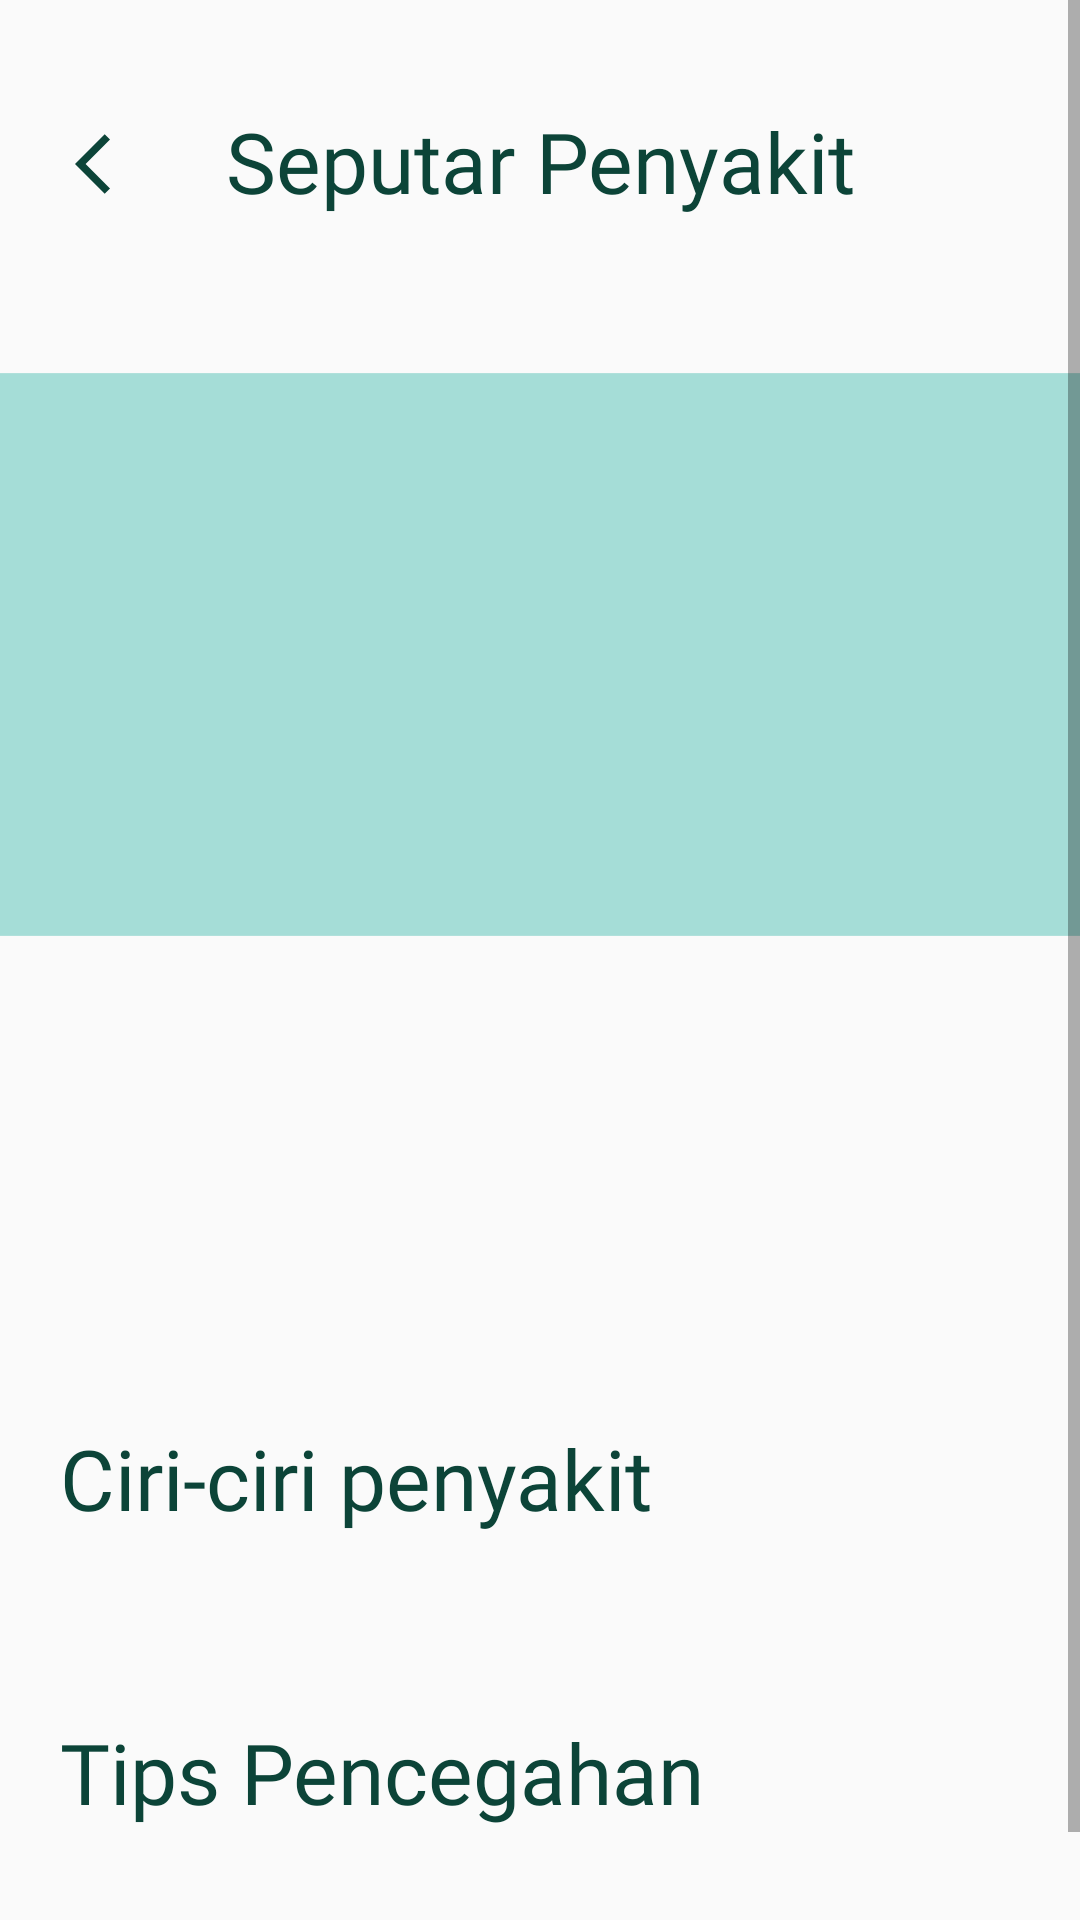

Named icons in this screenshot (1080×1920) and their bounding boxes, [x1, y1, x2, y2]:
arrow back: [75, 134, 110, 194]
